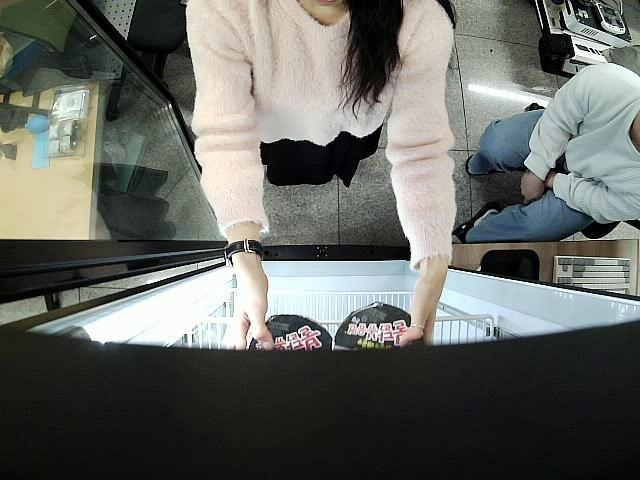07_buldak_L: (332, 308, 427, 354), (247, 312, 338, 357)
